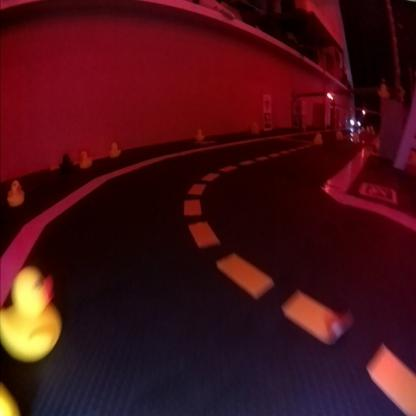Duckie: (3, 268, 61, 360), (7, 182, 26, 206), (80, 151, 94, 167), (112, 141, 122, 157)
QR code: (360, 182, 398, 202), (265, 112, 273, 128), (294, 114, 300, 124)
